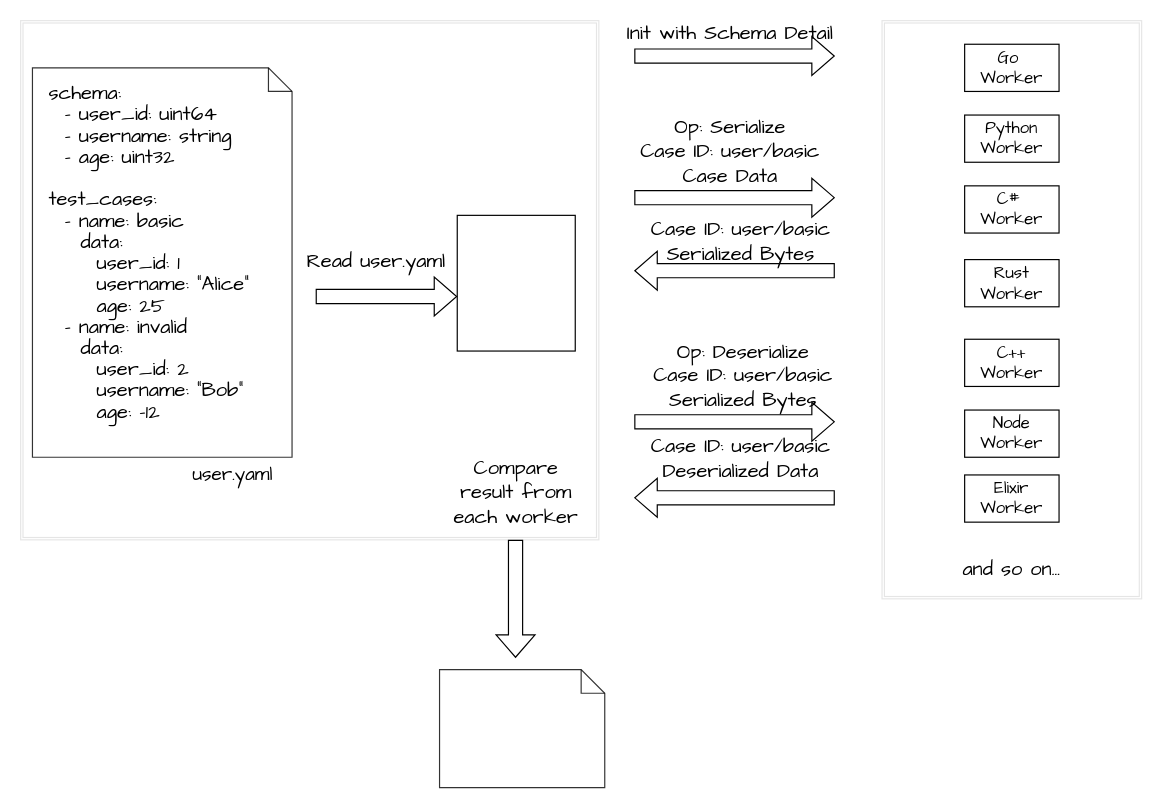
Image size: 1162x808. Some labels were removed from this diagram. Each missing label, with the centre of its shape:
"Serify CLI" belongs at point 515,282.
"Test Report" belongs at point 521,728.
